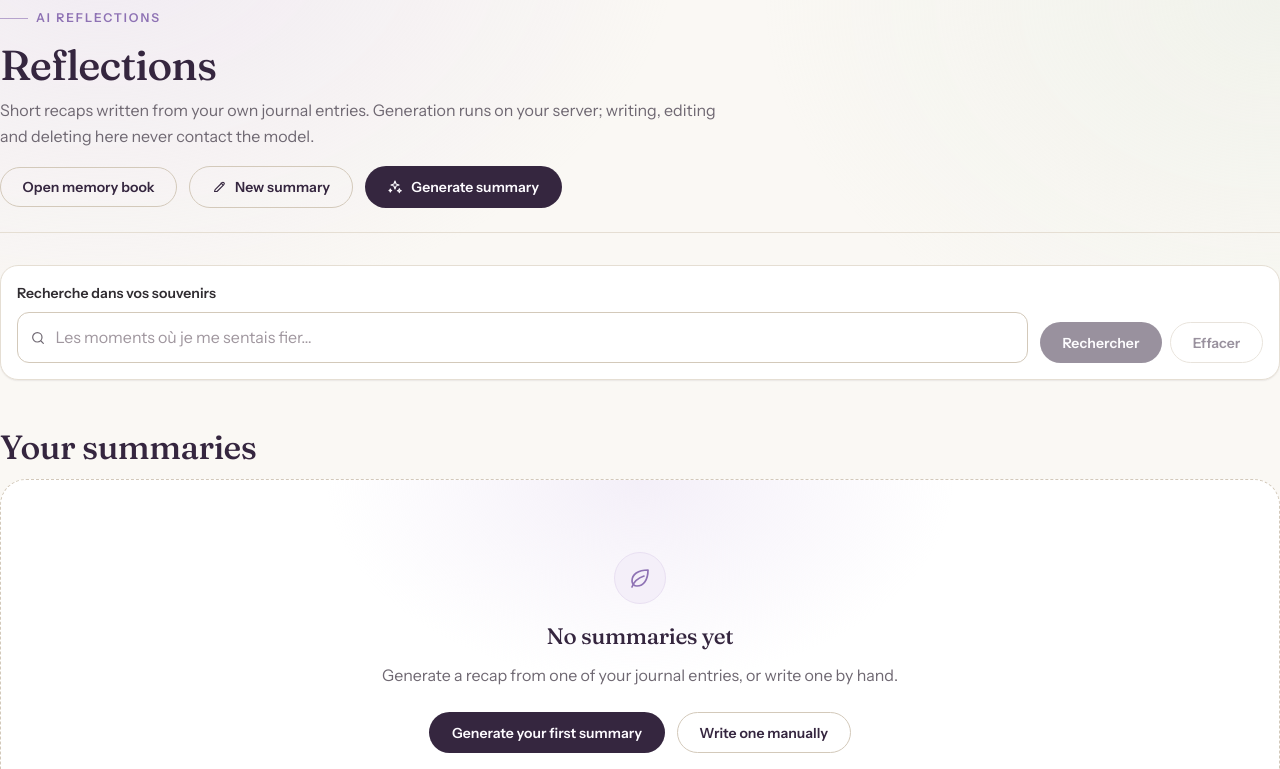
Scenario: SummariesPage › creates a summary and refreshes the list
Expected: the heading "No summaries yet" is shown, [547,624,733,650]
Click the button "New summary": (271, 187) [189,166,353,208]
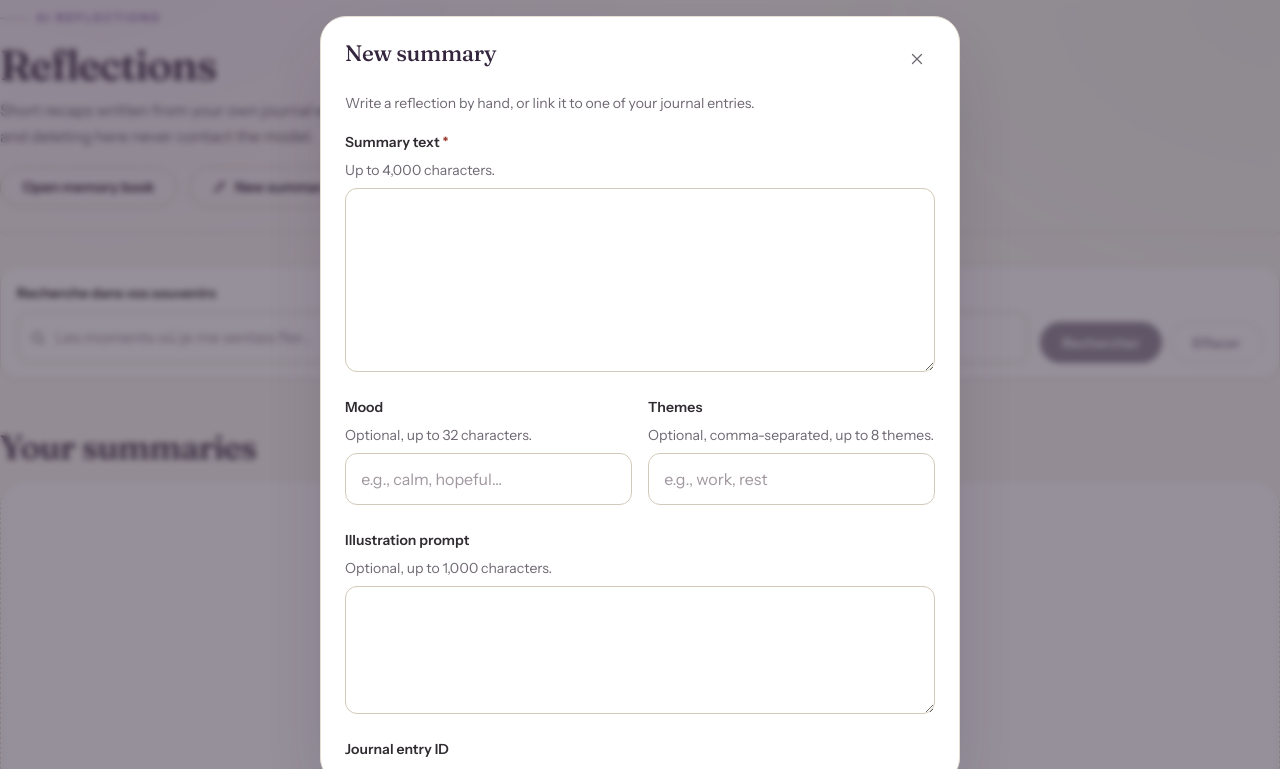
In the text box labelled "Summary text *": (640, 280) [345,188,935,372], type "A new manual summary."
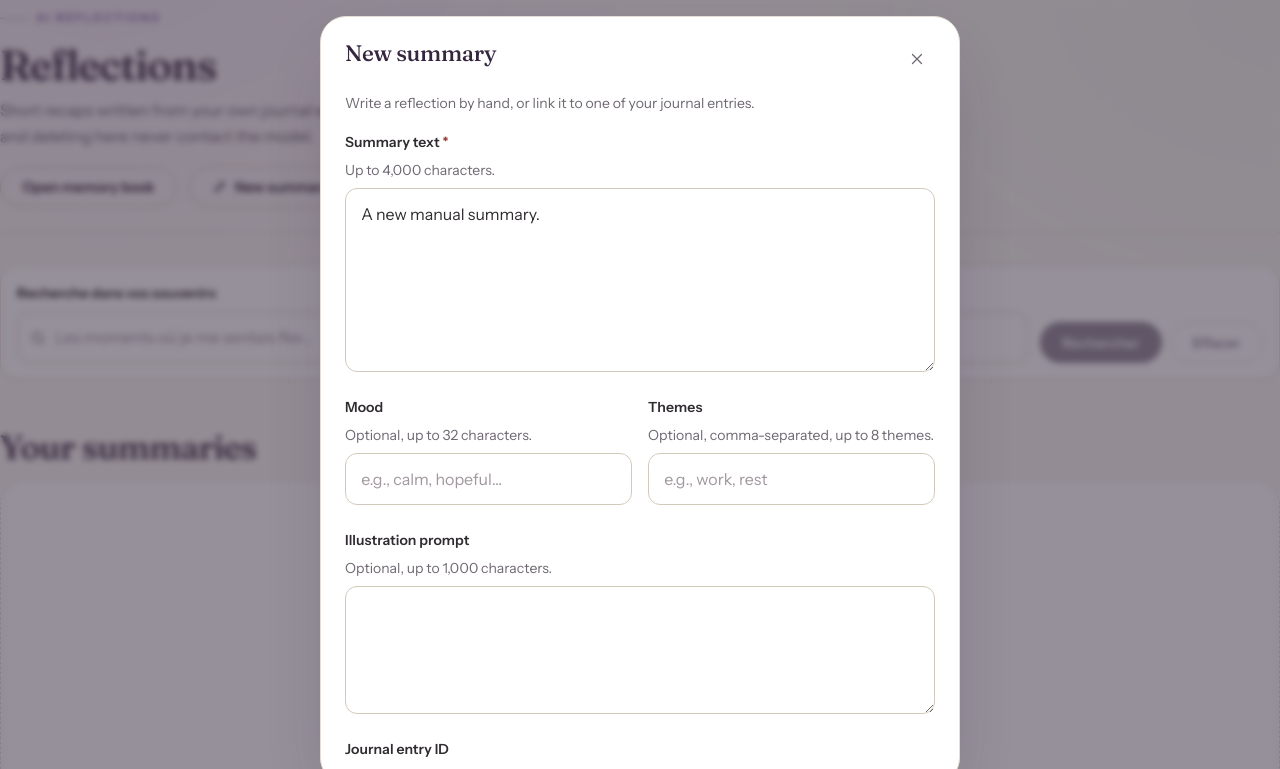
In the field labelled "Mood": (488, 479) [345,453,632,504], type "hopeful"
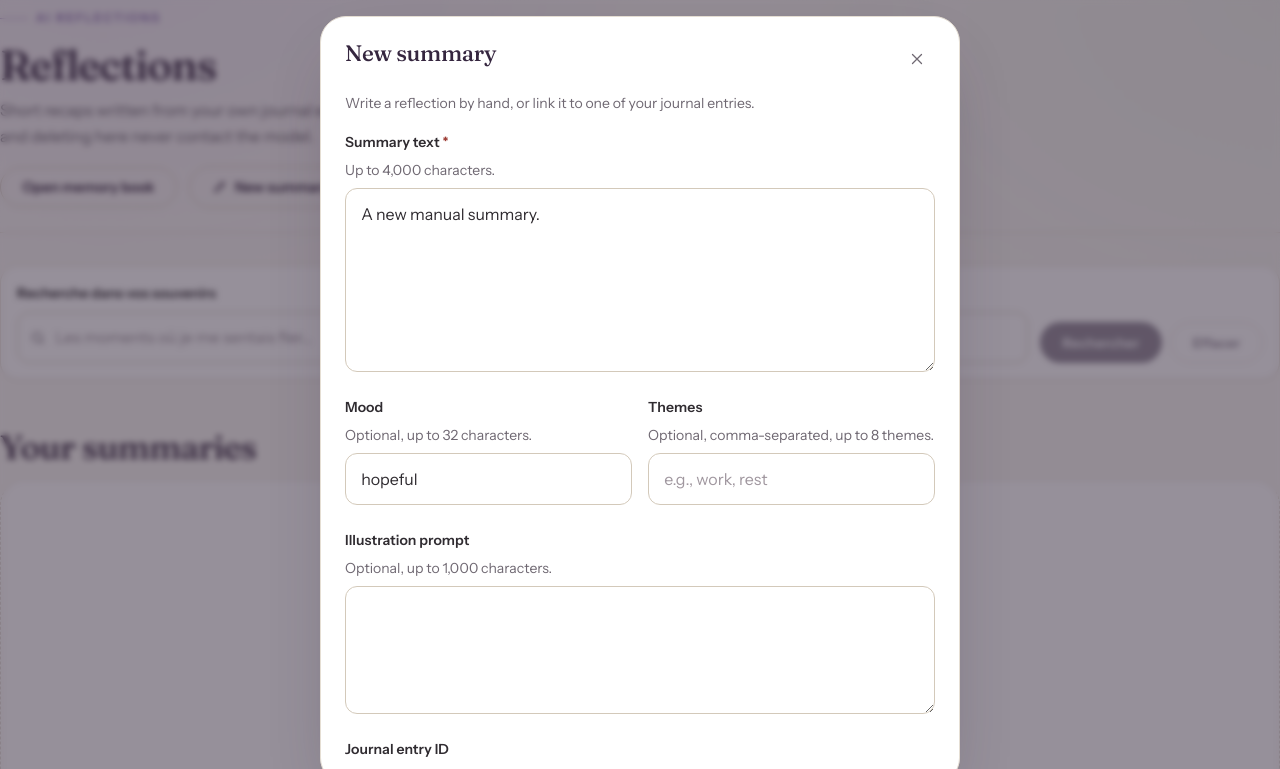
In the field labelled "Themes": (792, 479) [648,453,935,504], type "work, rest"
(page scrolled)
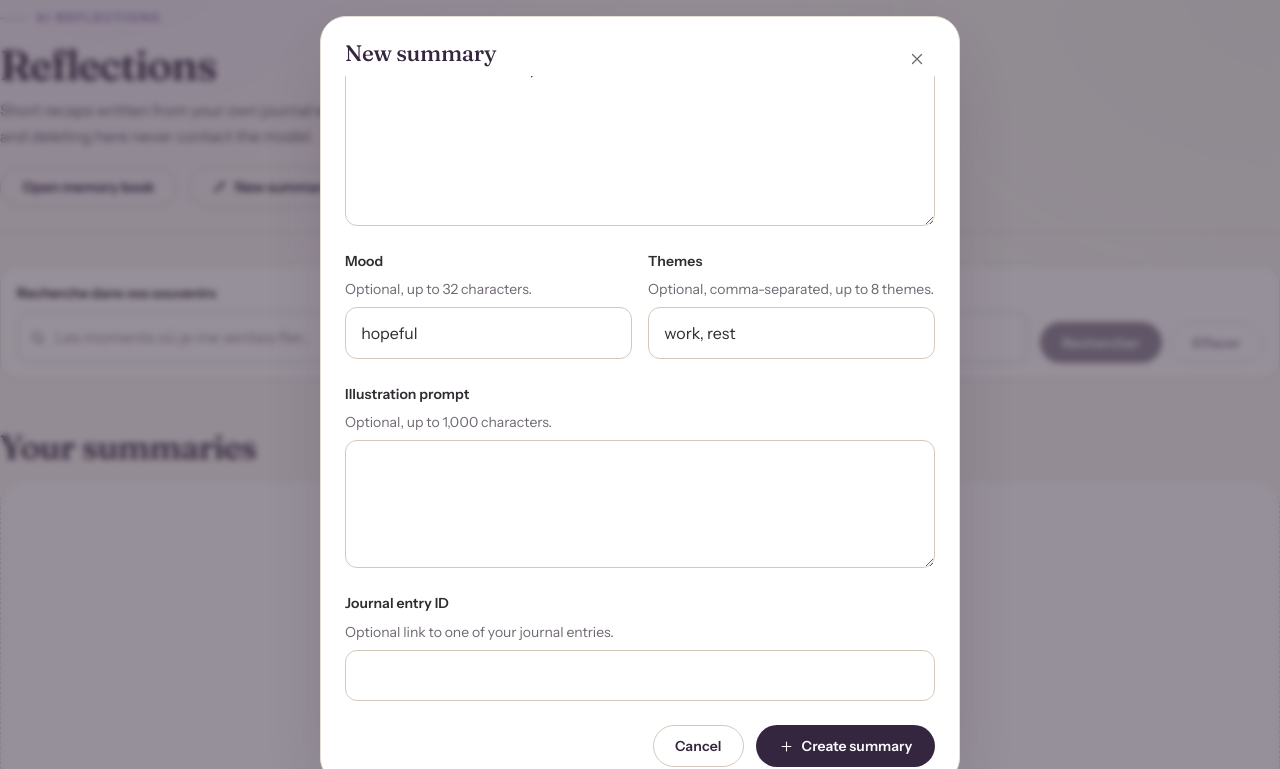
Click the button "Create summary": (846, 746) [756,725,935,767]
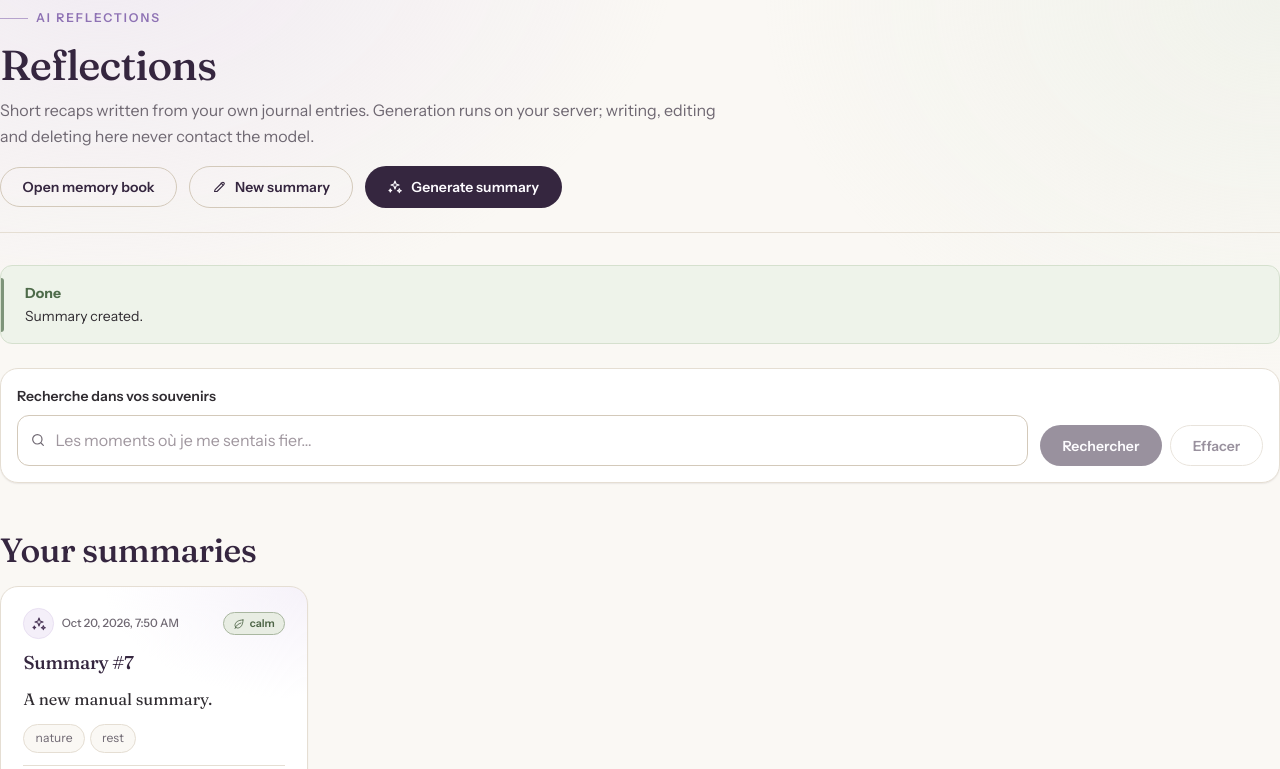
Expected: the text "Summary created." is shown, [25,307,143,325]
Expected: the text "A new manual summary." is shown, [23,689,212,709]
